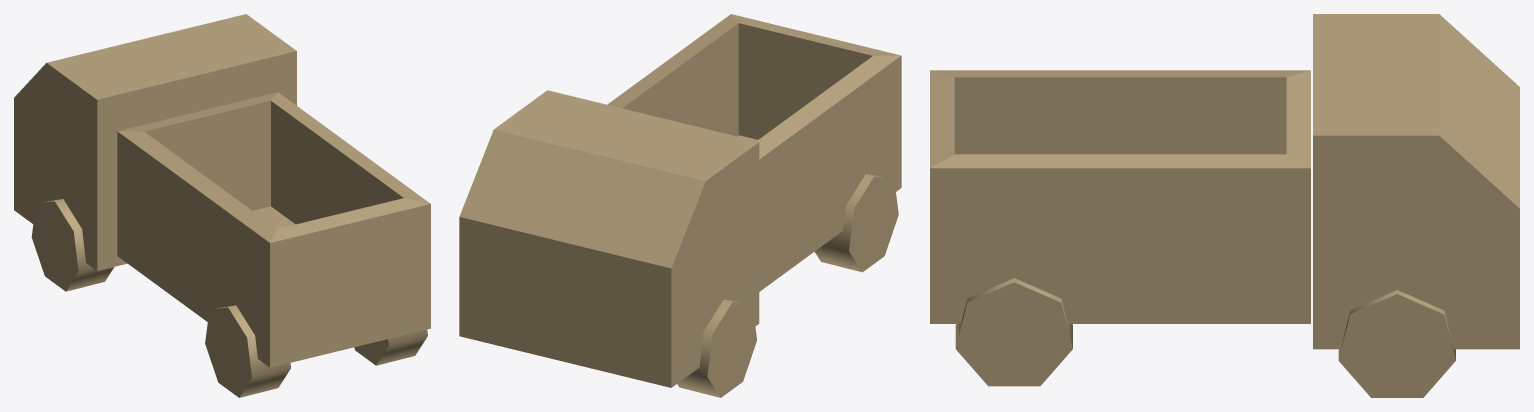
The model's file is Assets_Camion.fbx.
3 renders of one model, left to right at view 1: azimuth 30°, elevation 25°; view 2: azimuth 150°, elevation 25°; view 3: azimuth 270°, elevation 25°, orthographic. The views are drawn at different scales.
Parts seen in each view (by area): view 1: sas; view 2: sas; view 3: sas.
Part boxes in pixels (x1=…): sas: x1=14, y1=14, x2=430, y2=397; sas: x1=459, y1=14, x2=901, y2=397; sas: x1=930, y1=14, x2=1519, y2=397.
Size of the model in its own units: 422 by 387 by 800.
